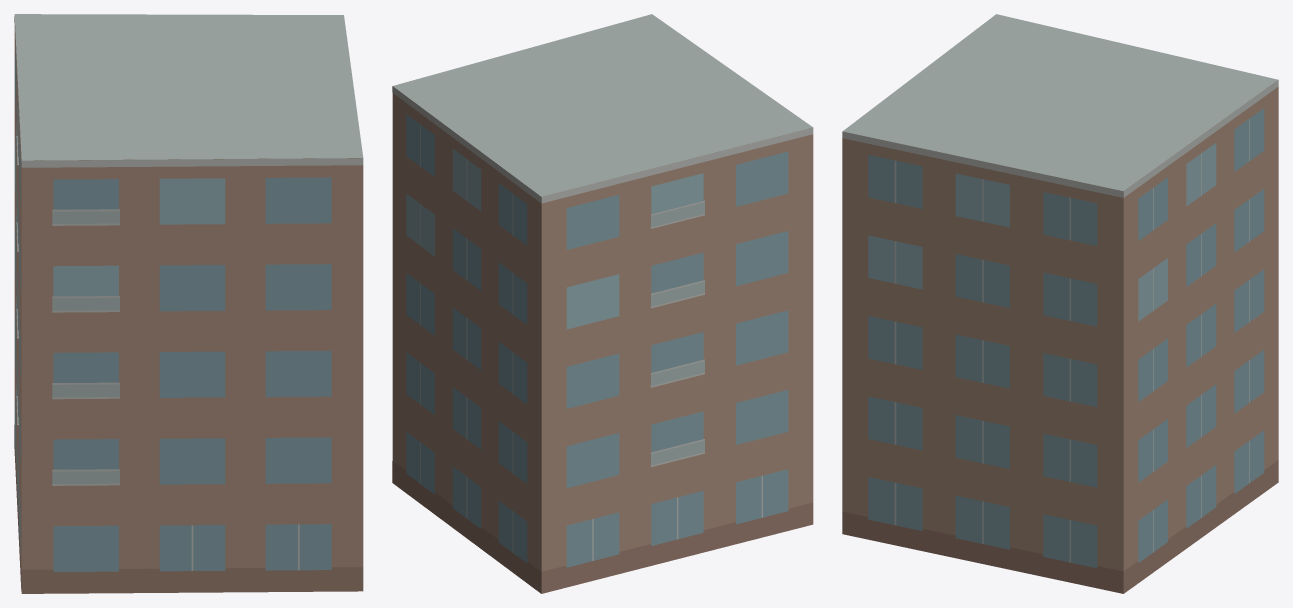
Rendered from survey-upis-32870077.glb.
The picture shows the model from 3 angles, left to right: view 1: azimuth 30°, elevation 25°; view 2: azimuth 150°, elevation 25°; view 3: azimuth 270°, elevation 25°; orthographic projection. The views are drawn at different scales.
Parts seen in each view (by area): view 1: survey-upis-32870077.tmp; view 2: survey-upis-32870077.tmp; view 3: survey-upis-32870077.tmp.
Part boxes in pixels (x1,y1,x2,y2): survey-upis-32870077.tmp: [14, 14, 363, 593]; survey-upis-32870077.tmp: [392, 14, 813, 593]; survey-upis-32870077.tmp: [842, 14, 1278, 593].
Bounding box in the file's own units: 13.79 × 14.6 × 14.34.
